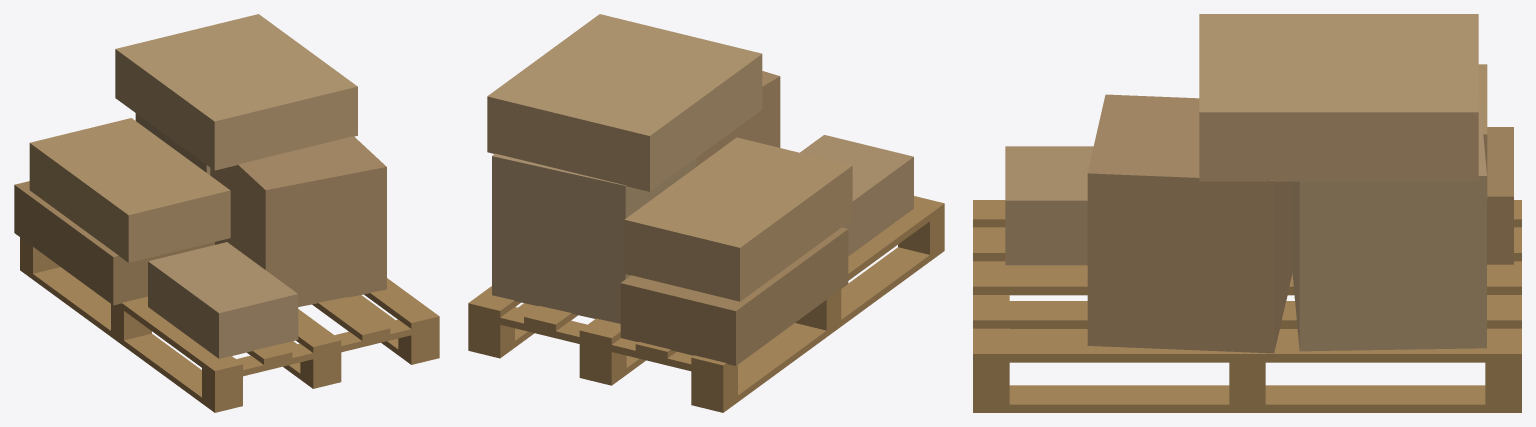
File: pallet-load-boxes.glb
The picture shows the model from 3 angles, left to right: view 1: azimuth 30°, elevation 25°; view 2: azimuth 150°, elevation 25°; view 3: azimuth 270°, elevation 25°; orthographic projection. The views are drawn at different scales.
Visible parts, largest first — view 1: pallet_load; view 2: pallet_load; view 3: pallet_load.
Part boxes in pixels (box(x1,y1,x2,y2)): pallet_load: box(14, 14, 439, 412); pallet_load: box(468, 14, 944, 412); pallet_load: box(973, 14, 1521, 412).
Bounding box in the file's own units: 0.8275 × 0.7229 × 1.2.
